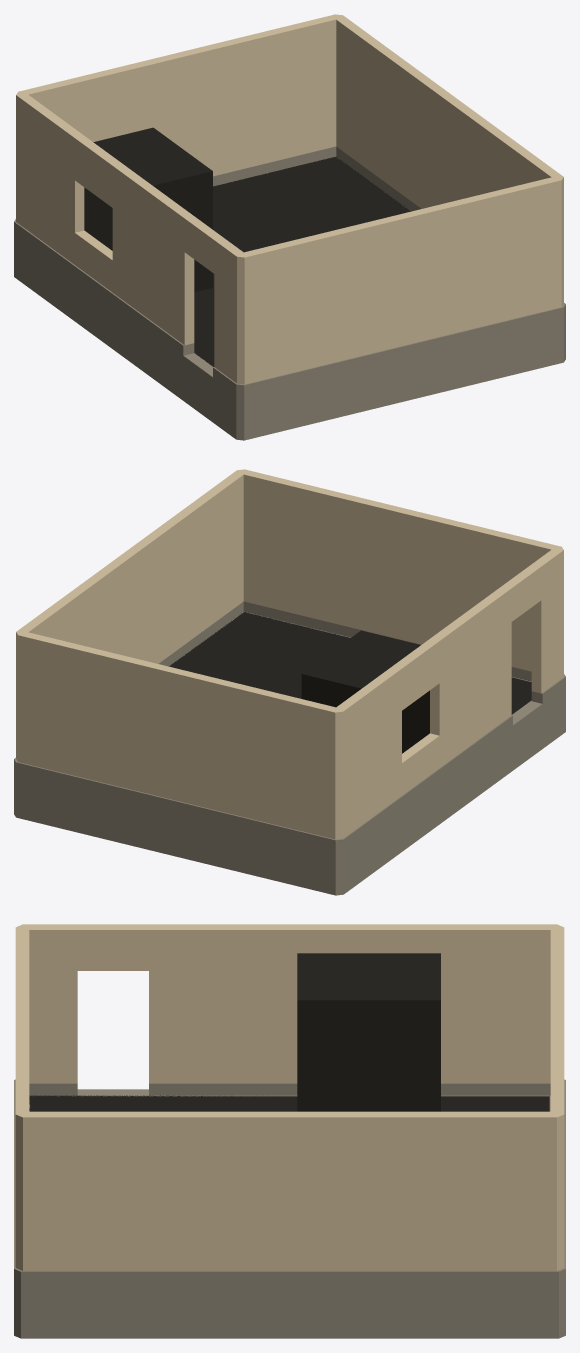
File: SM_Homes_H02_Shell_LOD2.fbx
3 views of the same model, one above another, from view 1: azimuth 30°, elevation 25°; view 2: azimuth 150°, elevation 25°; view 3: azimuth 270°, elevation 25° (orthographic). The views are drawn at different scales.
Visible parts, largest first — view 1: SM_Homes_H02_Shell_LOD2; view 2: SM_Homes_H02_Shell_LOD2; view 3: SM_Homes_H02_Shell_LOD2.
Boxes of the visible parts, x1,y1,x2,y2 form: SM_Homes_H02_Shell_LOD2: (14, 14, 565, 440); SM_Homes_H02_Shell_LOD2: (14, 469, 565, 895); SM_Homes_H02_Shell_LOD2: (14, 924, 565, 1338).
Size of the model in its own units: 7.56 by 9.06 by 3.99.
